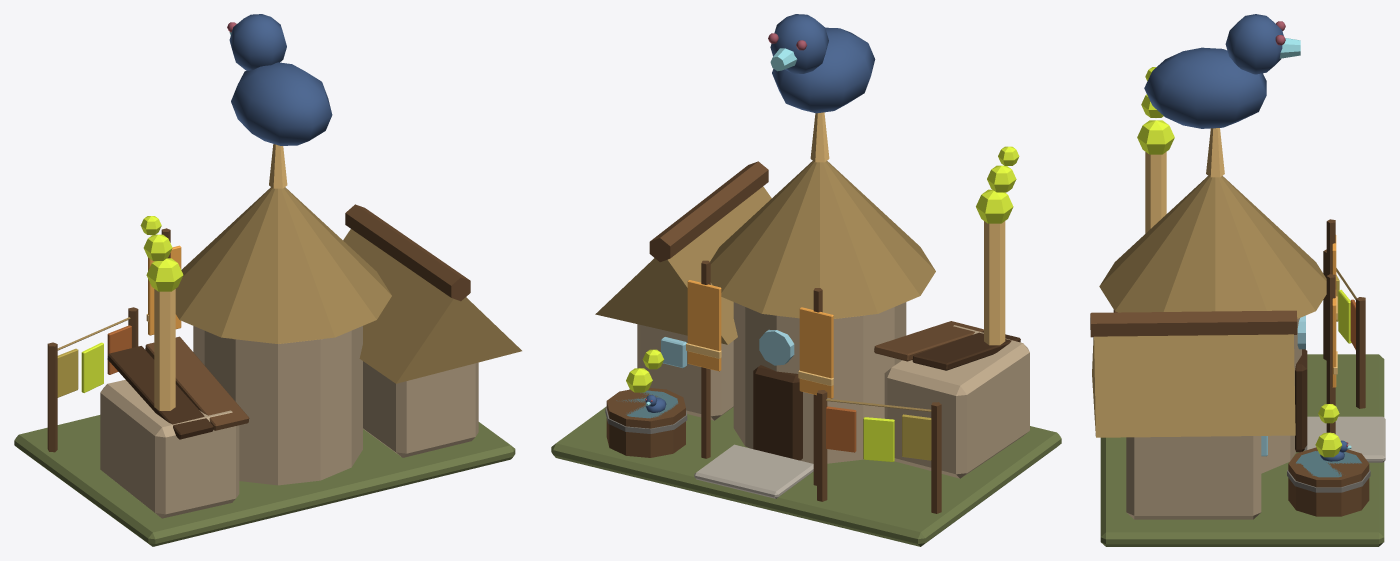
File: cultist_hut_l3.fbx
The picture shows the model from 3 angles, left to right: view 1: azimuth 30°, elevation 25°; view 2: azimuth 150°, elevation 25°; view 3: azimuth 270°, elevation 25°; orthographic projection.
Parts seen in each view (by area): view 1: Building; view 2: Building; view 3: Building.
Boxes of the visible parts, <box> form: Building: <box>14,14,521,546</box>; Building: <box>551,14,1061,546</box>; Building: <box>1090,14,1385,546</box>.
Bounding box in the file's own units: 1.61 × 1.09 × 1.8.
